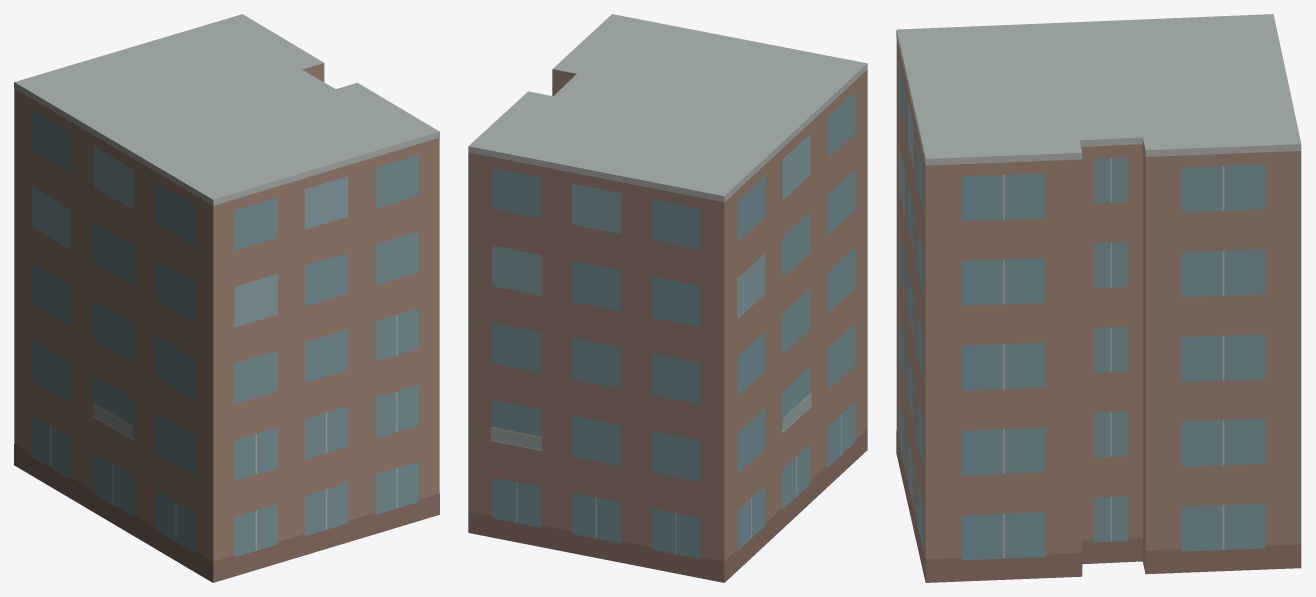
The model's file is survey-upis-32653051.glb.
The picture shows the model from 3 angles, left to right: view 1: azimuth 30°, elevation 25°; view 2: azimuth 150°, elevation 25°; view 3: azimuth 270°, elevation 25°; orthographic projection. The views are drawn at different scales.
Parts seen in each view (by area): view 1: survey-upis-32653051.tmp; view 2: survey-upis-32653051.tmp; view 3: survey-upis-32653051.tmp.
Part boxes in pixels (<box>): survey-upis-32653051.tmp: <box>14,14,439,582</box>; survey-upis-32653051.tmp: <box>468,14,867,582</box>; survey-upis-32653051.tmp: <box>896,14,1301,582</box>.
Size of the model in its own units: 11.34 by 15.45 by 13.39.
